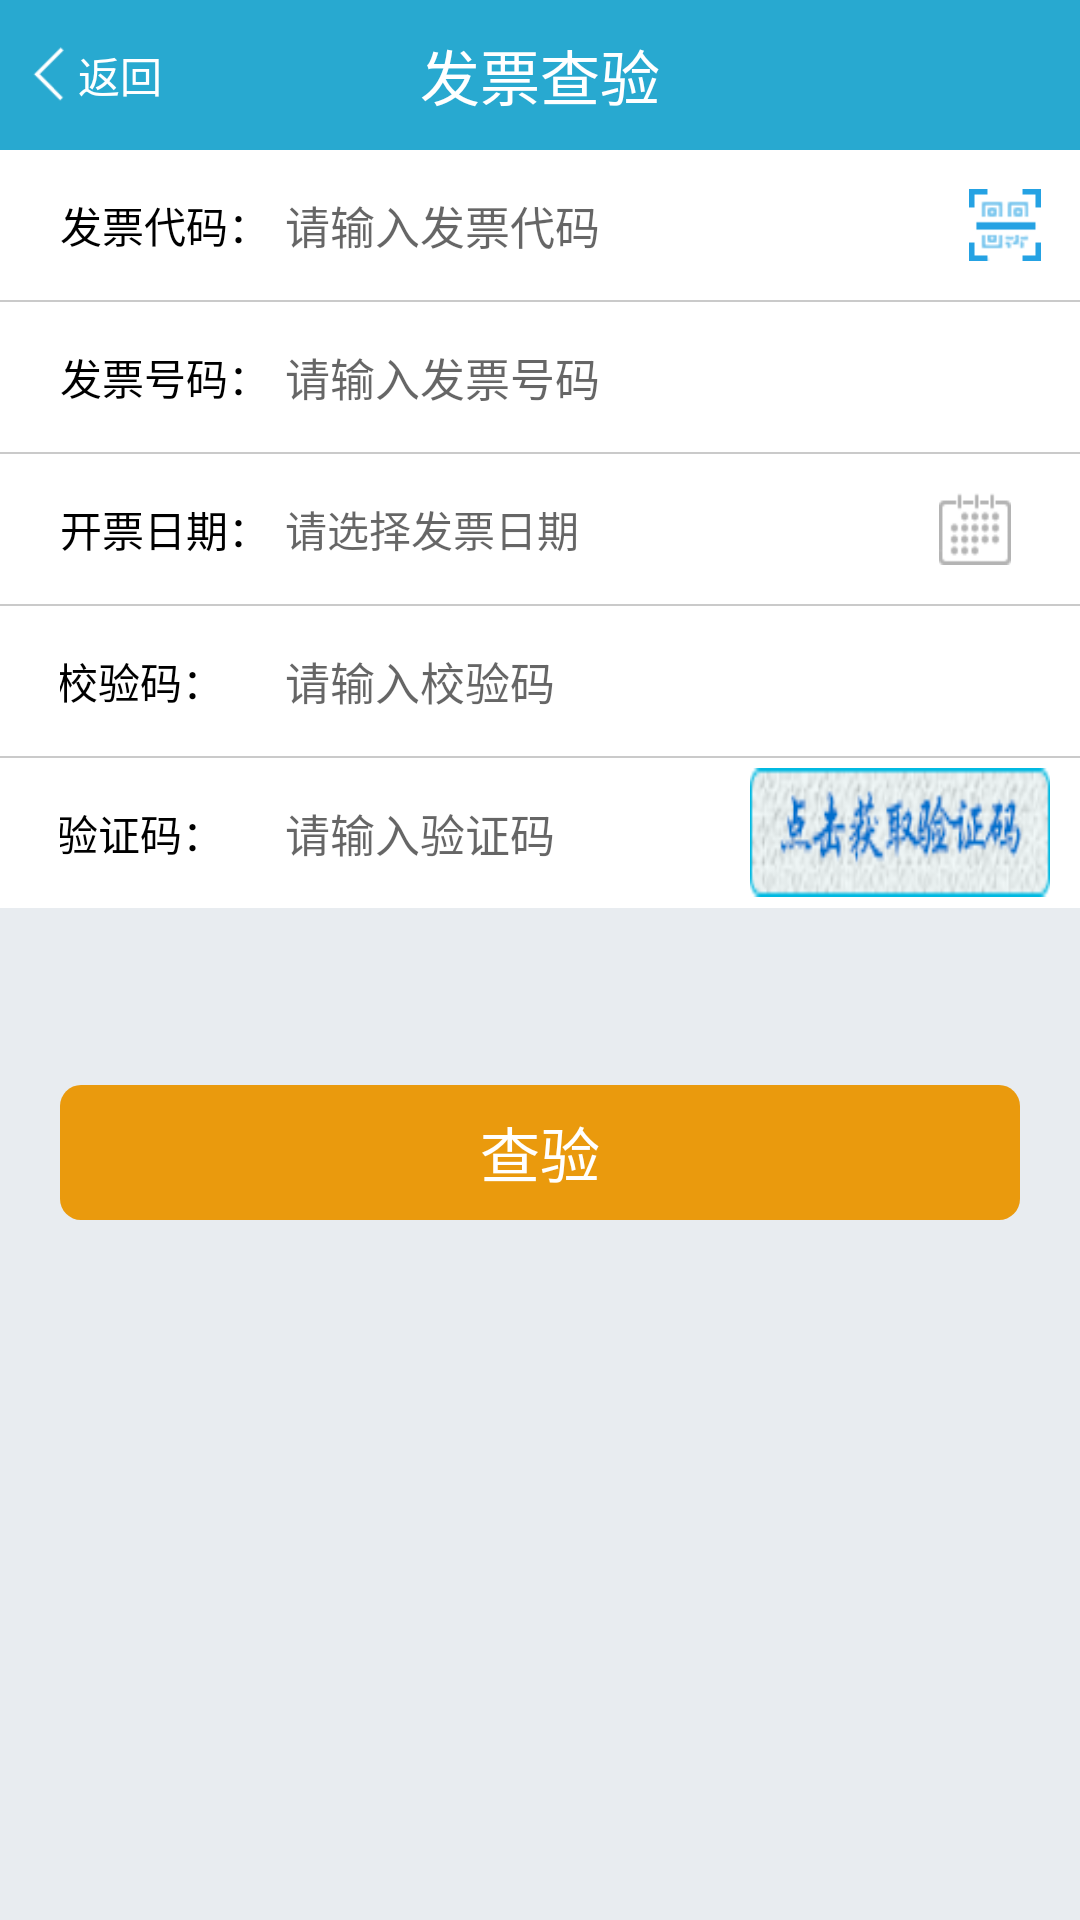

Named icons in this screenshot (1080px x 1920px) and their bounding boxes, bbox(x1, y1, x2, y2):
calendar: bbox(939, 494, 1011, 565)
scan: bbox(969, 189, 1041, 261)
